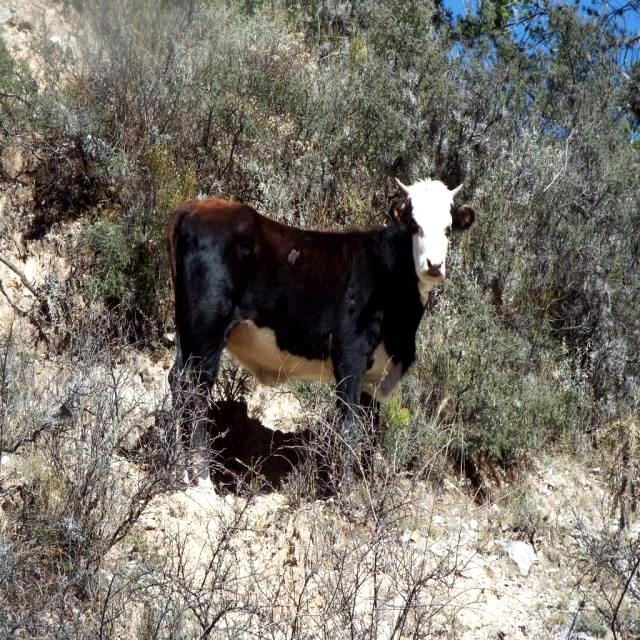COW: (168, 179, 475, 483)
